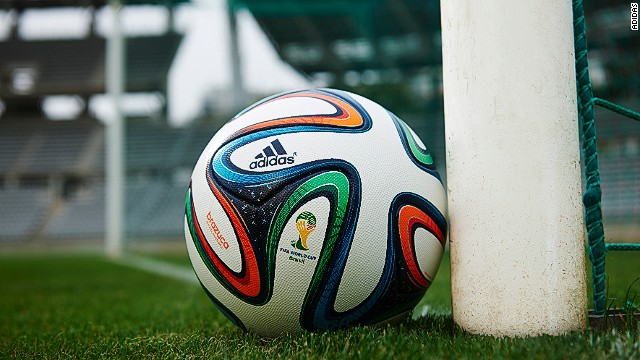football: (182, 87, 450, 337)
